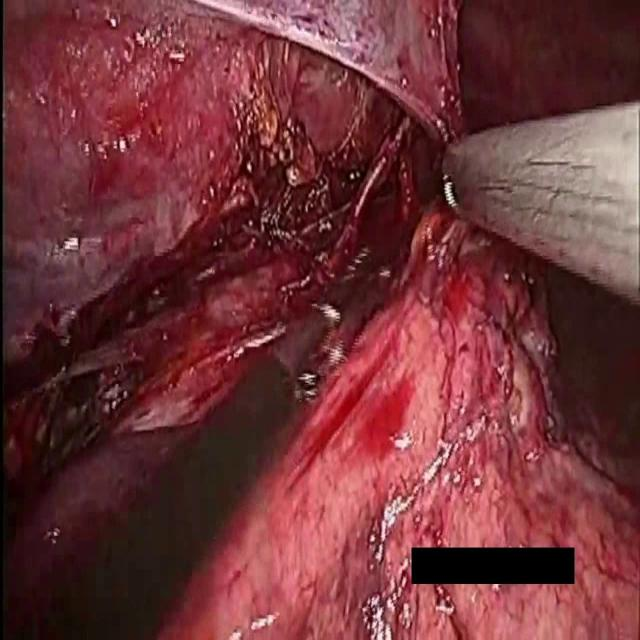surgical-area: (394, 545, 640, 639)
surgical-tool: (12, 243, 376, 639), (409, 103, 640, 302)
